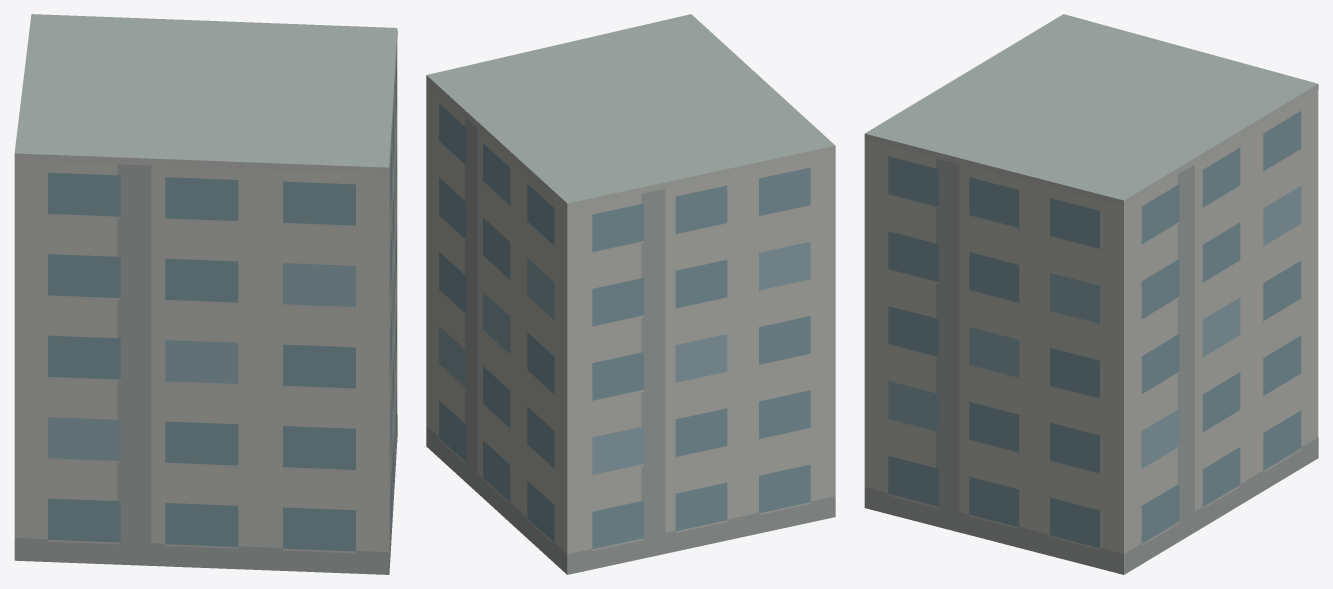
Rendered from survey-upis-33026615.glb.
3 renders of one model, left to right at view 1: azimuth 30°, elevation 25°; view 2: azimuth 150°, elevation 25°; view 3: azimuth 270°, elevation 25°, orthographic. The views are drawn at different scales.
Parts seen in each view (by area): view 1: survey-upis-33026615.tmp; view 2: survey-upis-33026615.tmp; view 3: survey-upis-33026615.tmp.
Boxes of the visible parts, x1,y1,x2,y2 form: survey-upis-33026615.tmp: (14, 14, 397, 574); survey-upis-33026615.tmp: (426, 14, 835, 574); survey-upis-33026615.tmp: (864, 14, 1318, 574).
Bounding box in the file's own units: 15.18 × 14.2 × 15.61.
